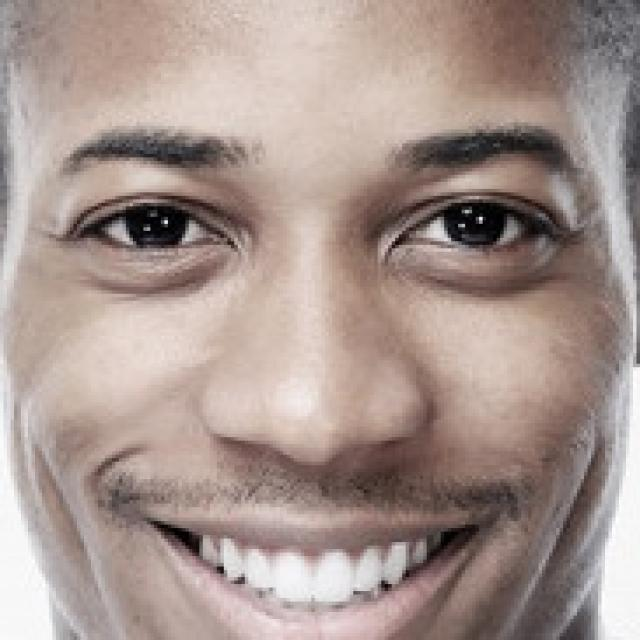Normal: (3, 0, 638, 637)
